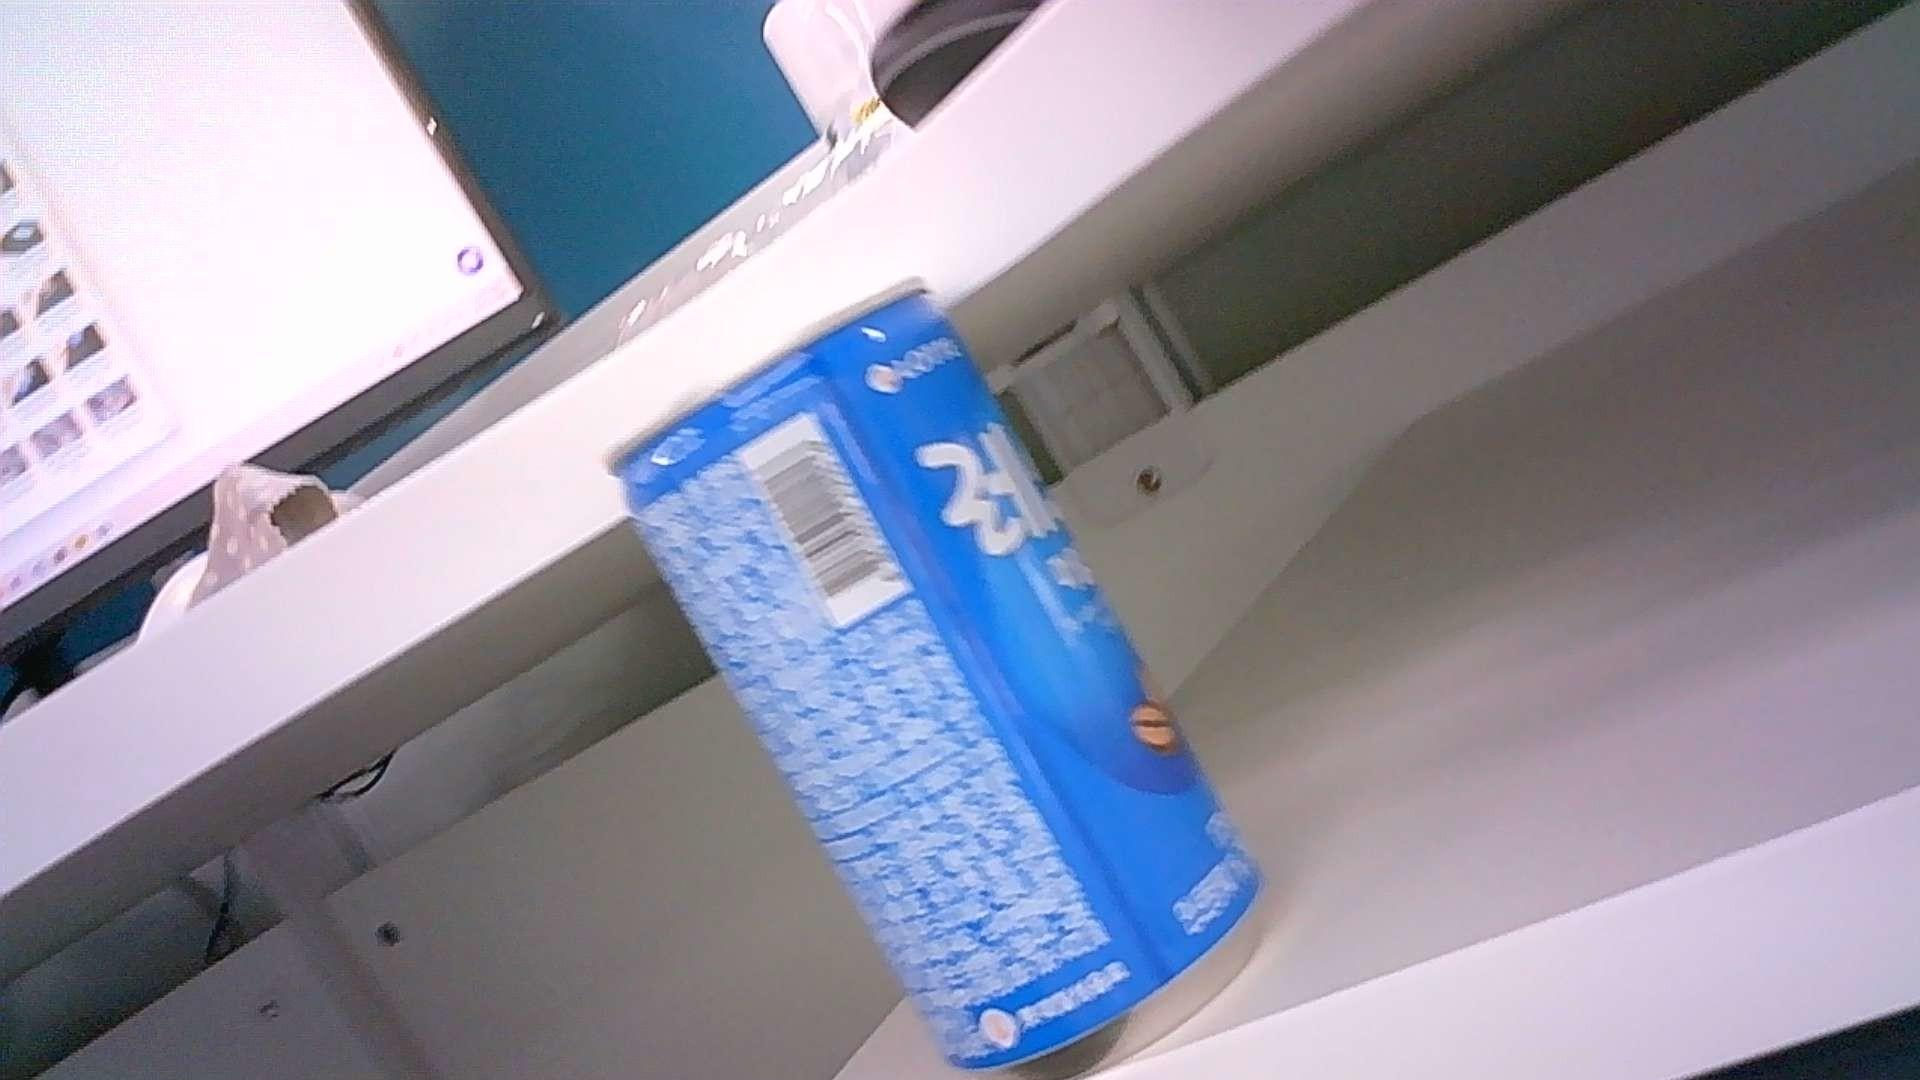letsbe: (603, 274, 1267, 1080)
